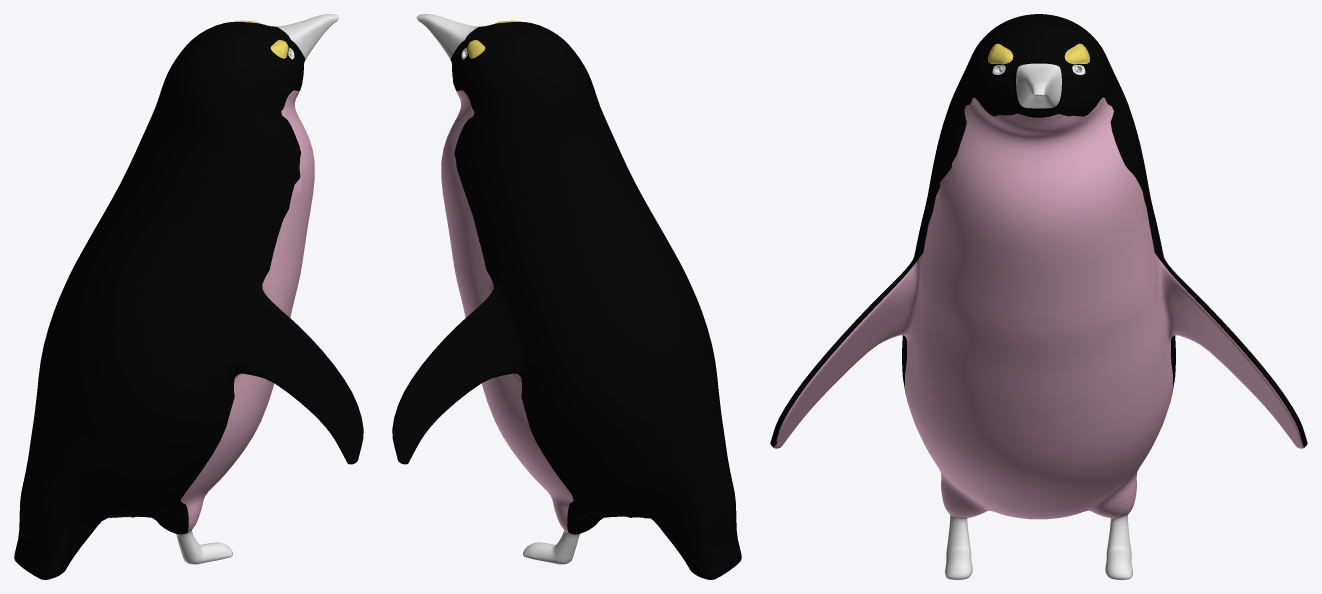
Rendered from Pengu.fbx.
3 views of the same model, side by side, from view 1: azimuth 30°, elevation 25°; view 2: azimuth 150°, elevation 25°; view 3: azimuth 270°, elevation 25° (orthographic). The views are drawn at different scales.
Parts seen in each view (by area): view 1: Pengu; view 2: Pengu; view 3: Pengu.
Part boxes in pixels (<box>): Pengu: <box>14,14,363,579</box>; Pengu: <box>392,14,741,579</box>; Pengu: <box>770,14,1307,579</box>.
Size of the model in its own units: 213 by 320 by 266.
